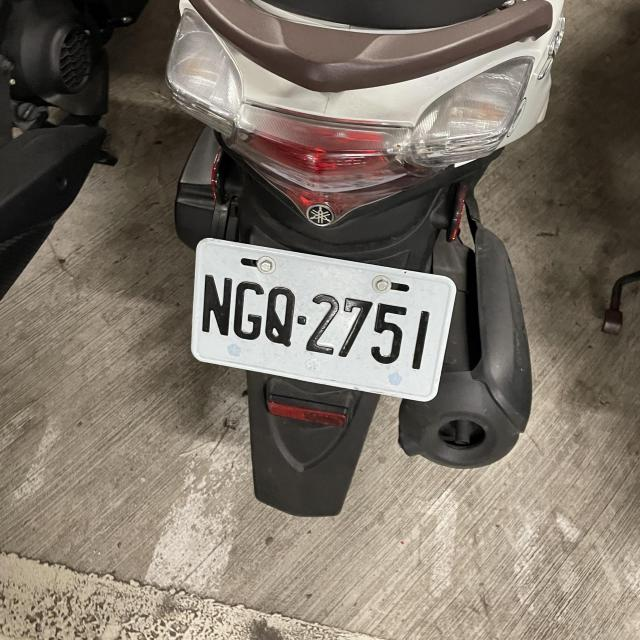W: (183, 239, 458, 401)
